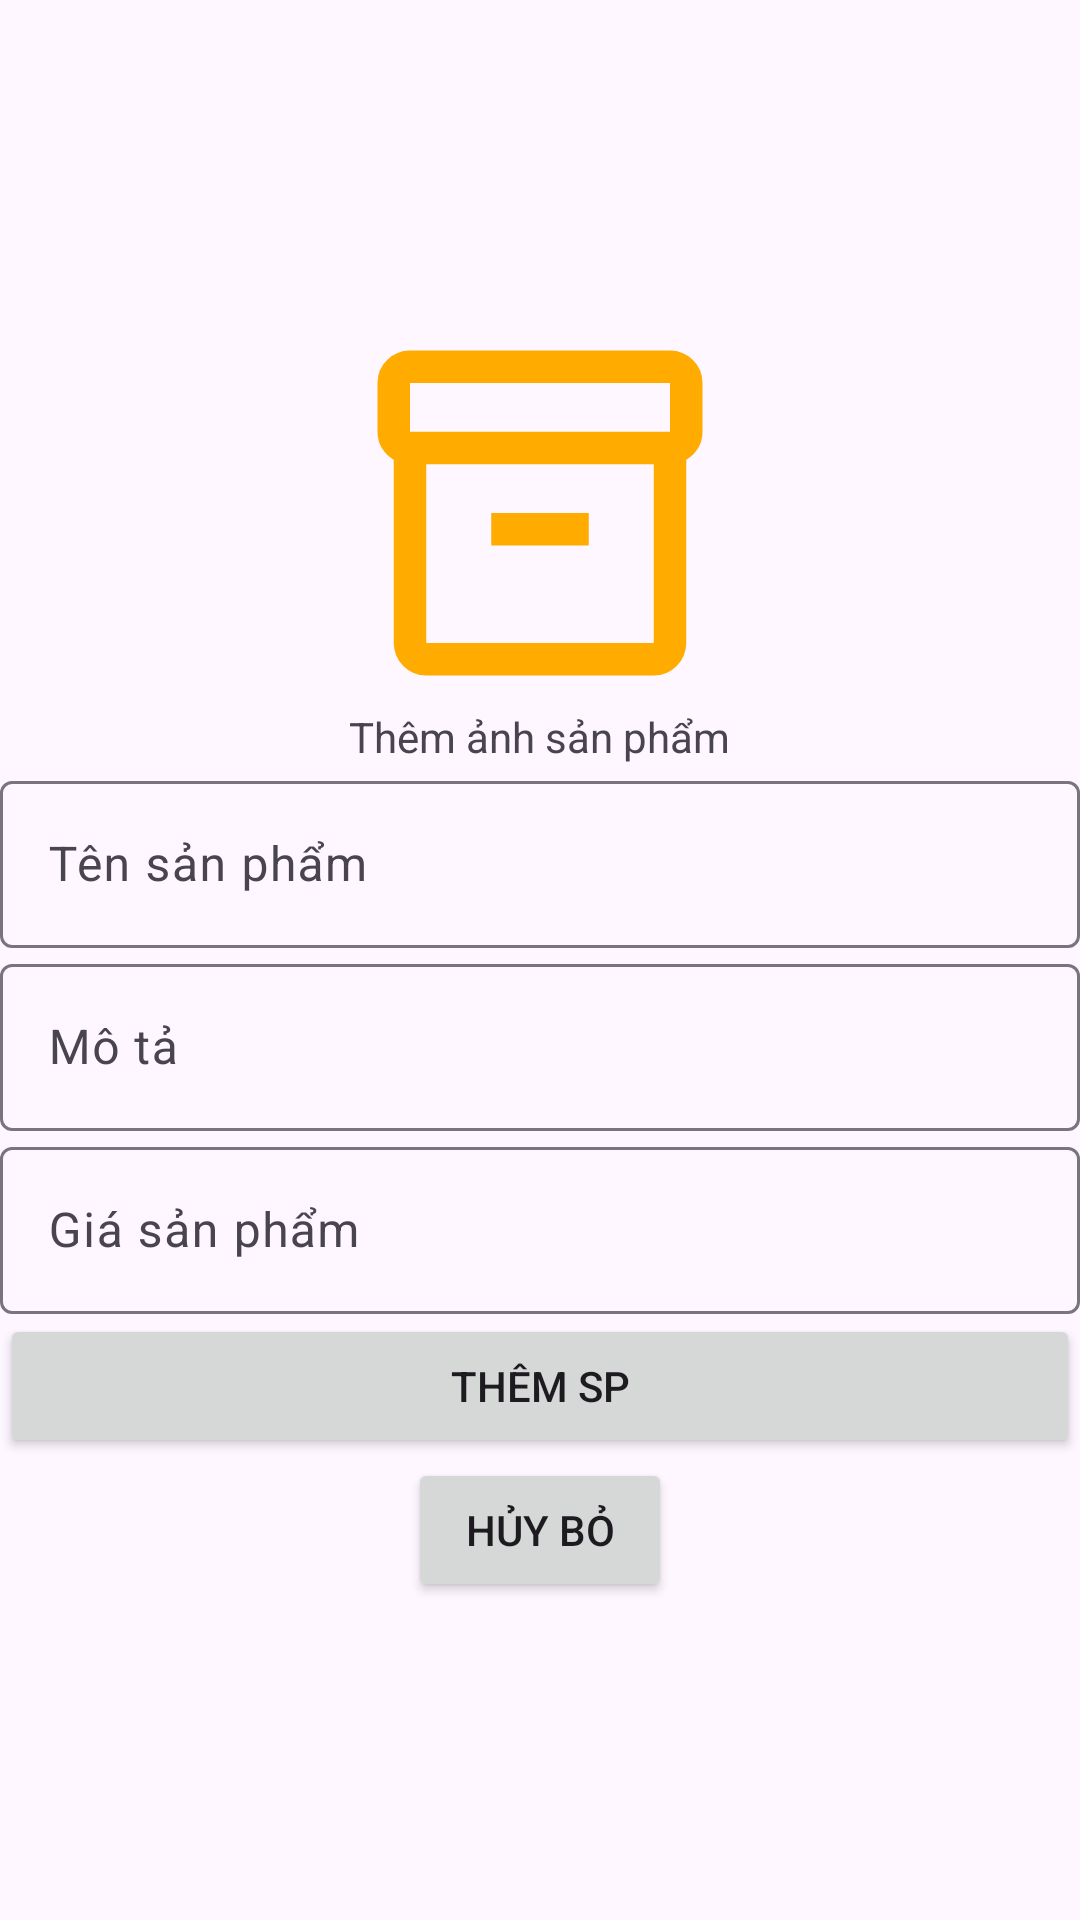

Icon click points for this 1080px x 1920px phone screenshot, format point (x, y):
inventory: point (540, 513)
